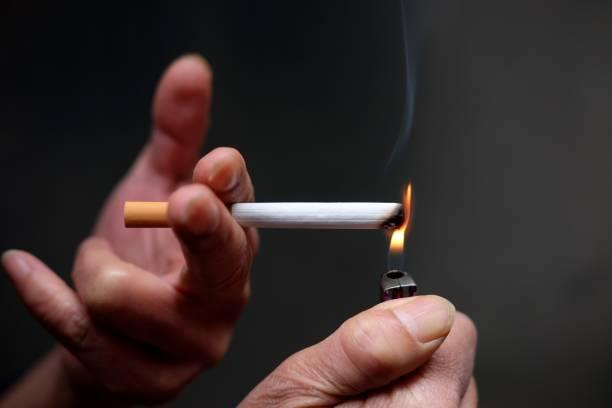Fire: (388, 179, 418, 277)
